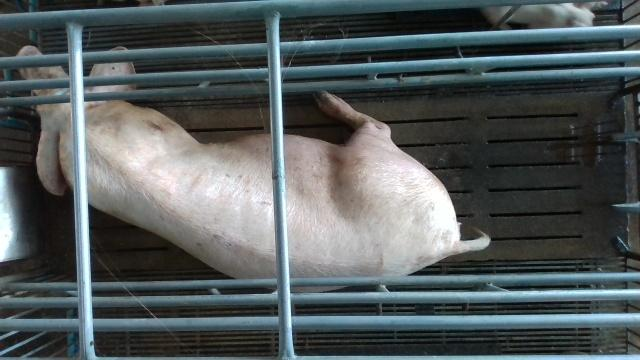piglet: (484, 0, 608, 28)
sow-sit: (14, 44, 491, 292)
